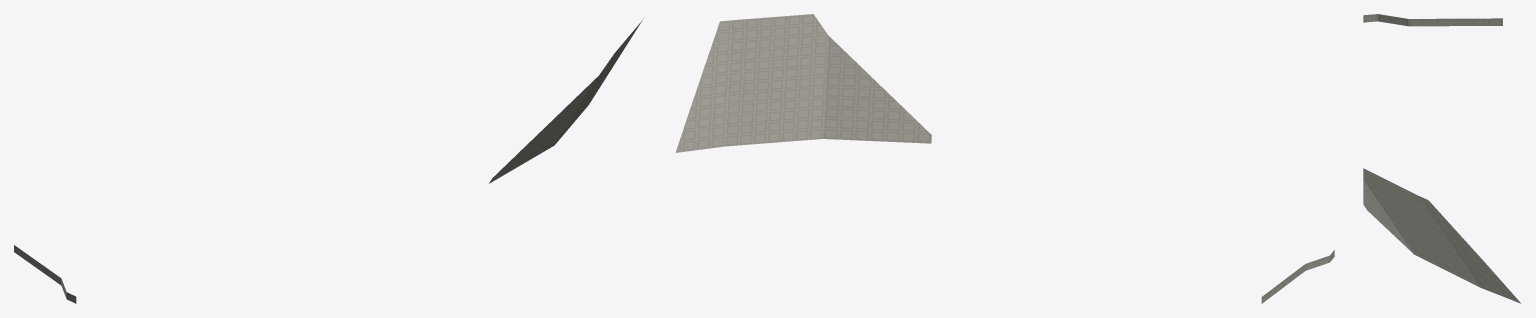
Rendered from kd_stage_13612f_0_21_bounded.glb.
3 views of the same model, side by side, from view 1: azimuth 30°, elevation 25°; view 2: azimuth 150°, elevation 25°; view 3: azimuth 270°, elevation 25° (orthographic). The views are drawn at different scales.
Parts seen in each view (by area): view 1: kd_stage_13612f_0_21_bounded; view 2: kd_stage_13612f_0_21_bounded; view 3: kd_stage_13612f_0_21_bounded.
Part boxes in pixels (bbox=[...]): kd_stage_13612f_0_21_bounded: bbox=[14, 20, 642, 303]; kd_stage_13612f_0_21_bounded: bbox=[675, 14, 1334, 303]; kd_stage_13612f_0_21_bounded: bbox=[1363, 14, 1521, 303].
Size of the model in its own units: 95.44 by 18 by 21.31.
1 material, 1 textured.
